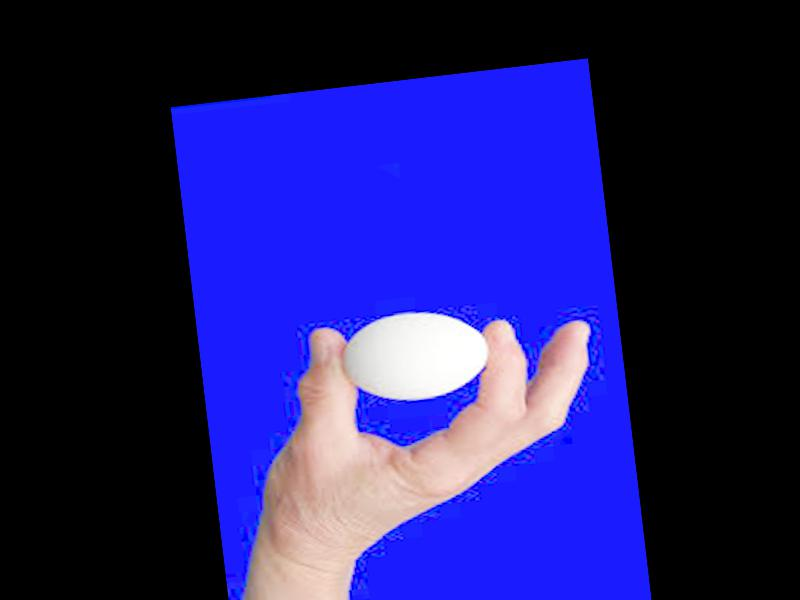Eggs: (339, 305, 495, 407)
